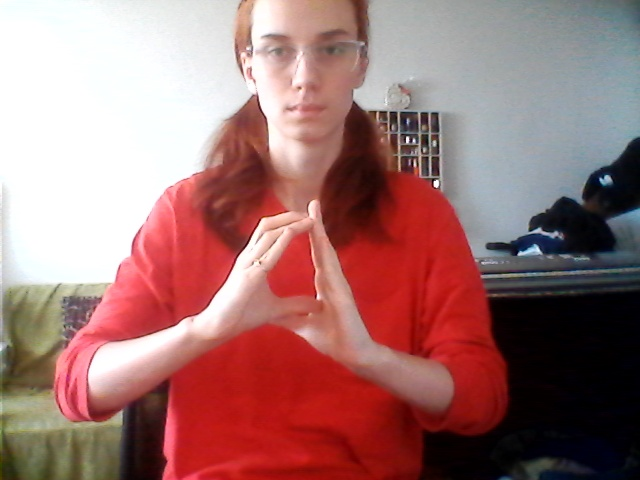d: (230, 195, 373, 374)
